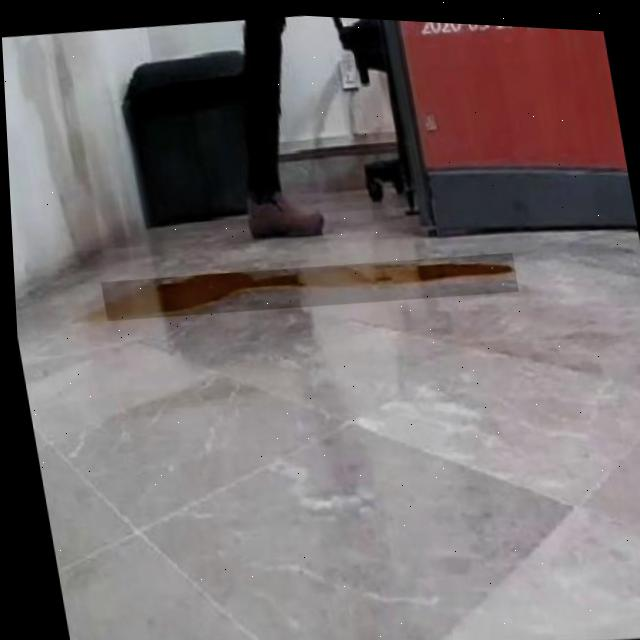spillage: (101, 259, 511, 319)
